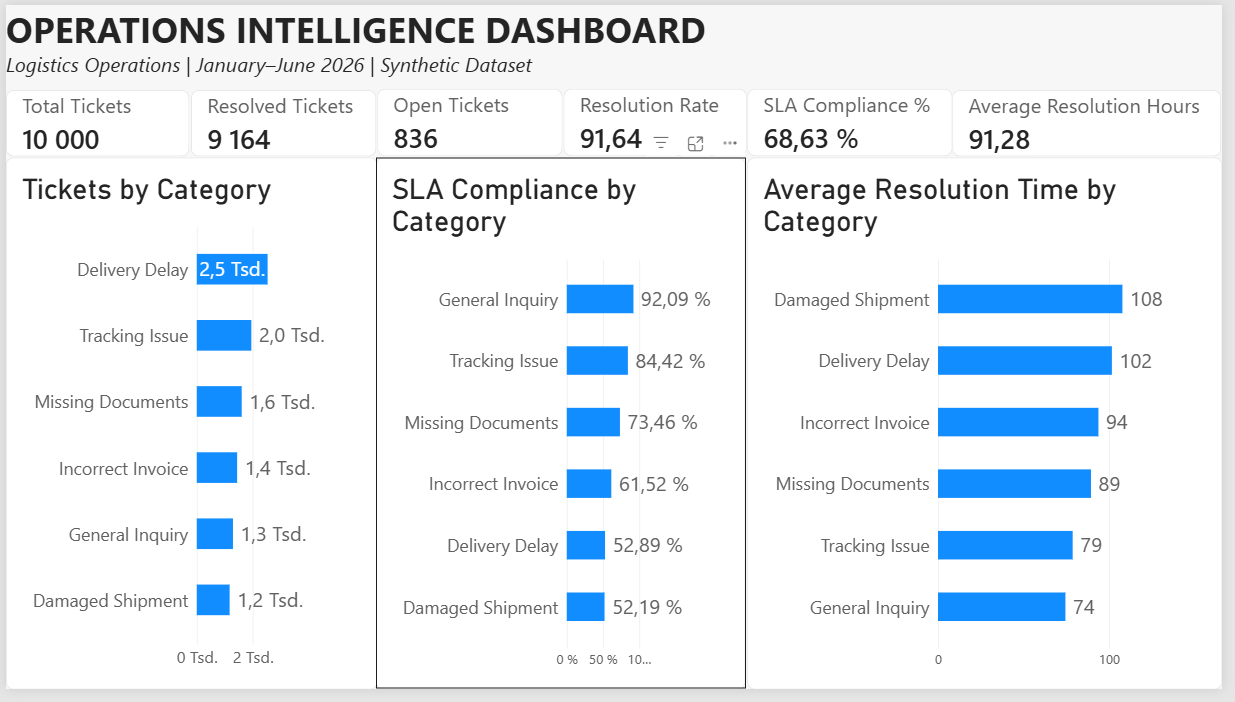

What the dashboard file says about the page in this screenshot:
{"tool":"powerbi","page":{"name":"01 | Operational Overview","canvas":[1280,720],"ordinal":0},"visuals":[{"type":"cardVisual","fields":{"Data":["tickets.Total Tickets"]},"box":[391.2,88.8,195,71.2],"z":0},{"type":"cardVisual","fields":{"Data":["tickets.Resolved Tickets Display"]},"box":[195,90,195,70],"z":1000},{"type":"barChart","title":"Tickets by Category","fields":{"Category":["tickets.category"],"Y":["tickets.Total Tickets1"]},"box":[0,160,391.2,560],"z":2000},{"type":"cardVisual","fields":{"Data":["tickets.Resolution Rate"]},"box":[586.2,88.8,193.8,71.2],"z":3000},{"type":"cardVisual","fields":{"Data":["tickets.Total Tickets Display"]},"box":[0,90,193.8,70],"z":4000},{"type":"cardVisual","fields":{"Data":["tickets.SLA Compliance %"]},"box":[780,88.8,216.2,71.2],"z":5000},{"type":"cardVisual","fields":{"Data":["tickets.Average Resolution Hours"]},"box":[996.2,90,283.8,70],"z":6000},{"type":"clusteredBarChart","title":"SLA Compliance by Category","fields":{"Category":["tickets.category"],"Y":["tickets.SLA Compliance %"]},"box":[390,160,388.8,560],"z":7000},{"type":"clusteredBarChart","title":"Average Resolution Time by Category","fields":{"Category":["tickets.category"],"Y":["tickets.Average Resolution Hours"]},"box":[780,160,500,560],"z":8000},{"type":"textbox","box":[0,48,1078,50],"z":9000},{"type":"textbox","box":[0,0,942.5,72.5],"z":10000}]}

Visuals, with their boxes in screenshot pixels (x1, y1, x2, y2), scaled from the page's 1280x720 canvas onto the 1235x702 screenshot:
cardVisual - tickets.Total Tickets: bbox=[377, 87, 566, 156]
cardVisual - tickets.Resolved Tickets Display: bbox=[188, 88, 376, 156]
"Tickets by Category" barChart: bbox=[0, 156, 377, 701]
cardVisual - tickets.Resolution Rate: bbox=[566, 87, 753, 156]
cardVisual - tickets.Total Tickets Display: bbox=[0, 88, 187, 156]
cardVisual - tickets.SLA Compliance %: bbox=[753, 87, 961, 156]
cardVisual - tickets.Average Resolution Hours: bbox=[961, 88, 1234, 156]
"SLA Compliance by Category" clusteredBarChart: bbox=[376, 156, 751, 701]
"Average Resolution Time by Category" clusteredBarChart: bbox=[753, 156, 1234, 701]
textbox: bbox=[0, 47, 1040, 96]
textbox: bbox=[0, 0, 909, 71]
